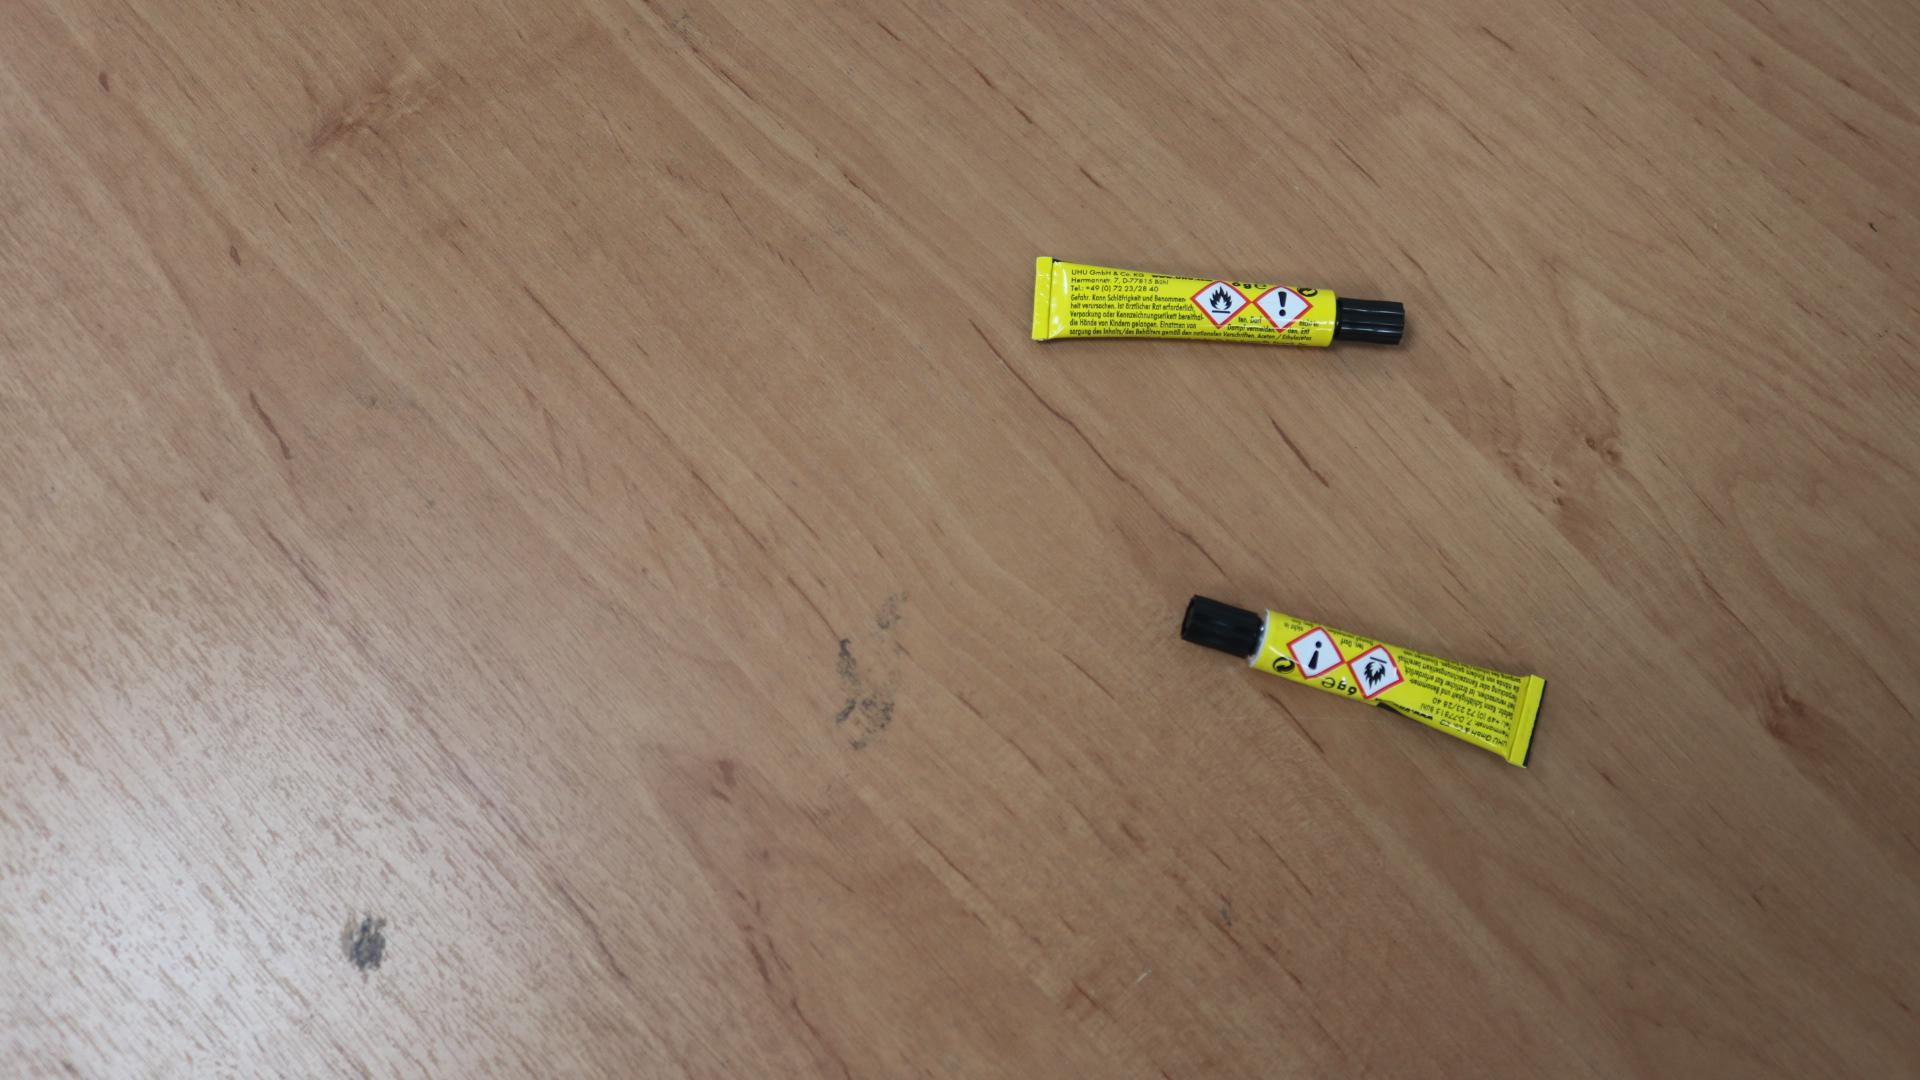Head: (1220, 624, 1227, 630), (1367, 316, 1371, 320)
Tail: (1525, 717, 1530, 723), (1039, 296, 1043, 300)
Tube: (1179, 595, 1547, 769), (1032, 255, 1406, 348)
